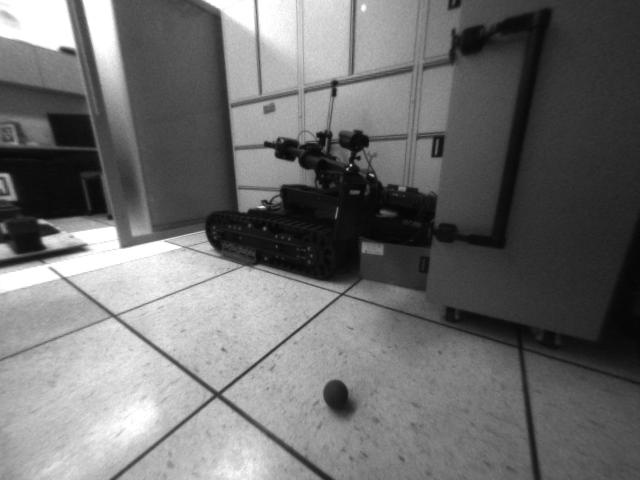dogtoy: (315, 371, 356, 419)
